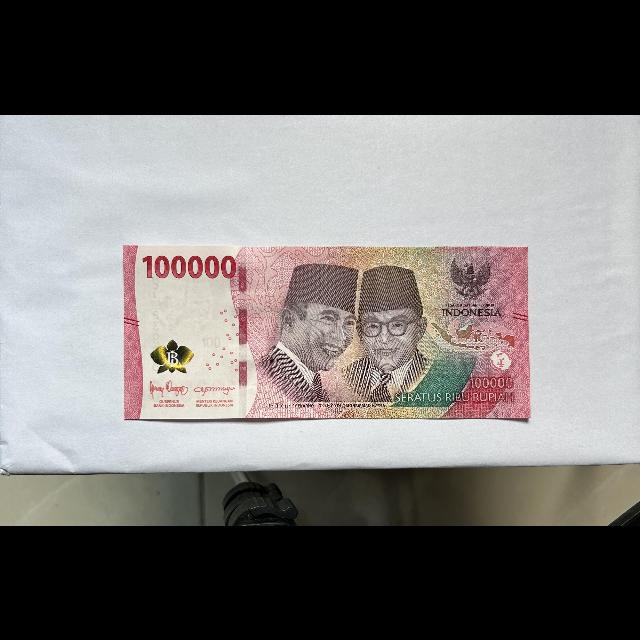Asli-100k: (122, 244, 532, 421)
Tinta-Asli-100k: (150, 338, 195, 375)
